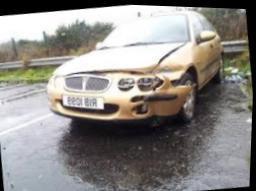Bonnet: (60, 40, 186, 75)
Bumper: (107, 67, 196, 121)
